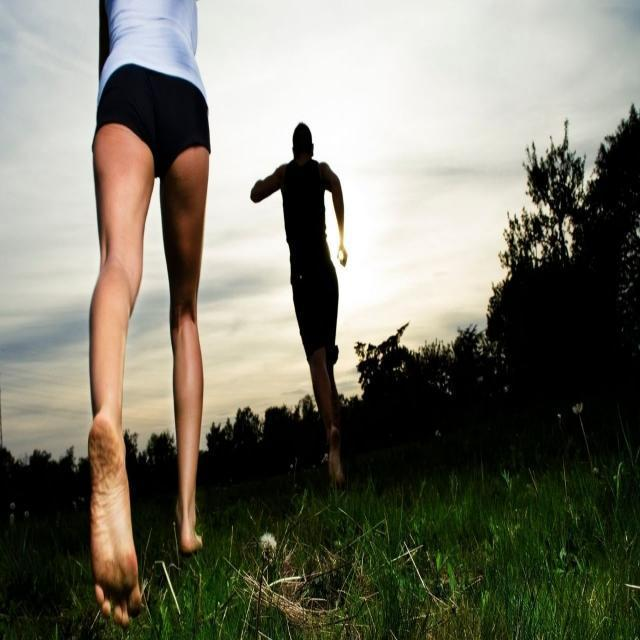No_Shoe: (83, 423, 141, 613), (178, 504, 206, 561)
